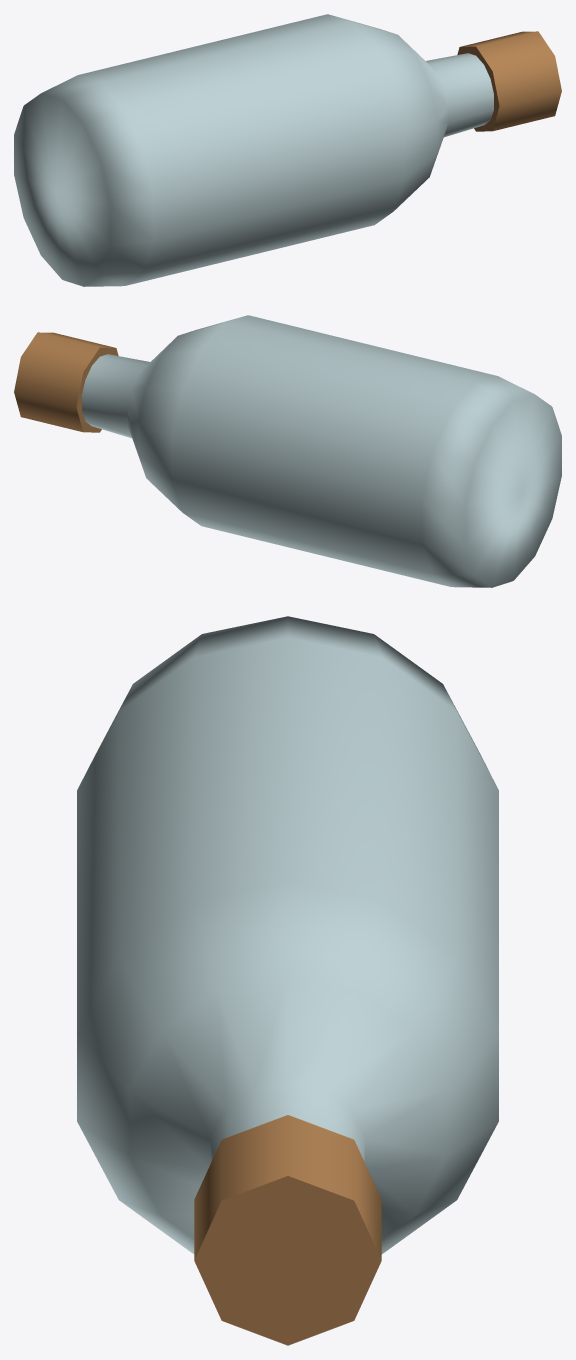
File: item_ic_shipbottle.glb
3 views of the same model, one above another, from view 1: azimuth 30°, elevation 25°; view 2: azimuth 150°, elevation 25°; view 3: azimuth 270°, elevation 25° (orthographic). The views are drawn at different scales.
Visible parts, largest first — view 1: item_ic_shipbottle_clear, item_ic_shipbottle_main; view 2: item_ic_shipbottle_clear, item_ic_shipbottle_main; view 3: item_ic_shipbottle_clear, item_ic_shipbottle_main.
Boxes of the visible parts, bbox=[...] form: item_ic_shipbottle_clear: bbox=[14, 14, 493, 286]; item_ic_shipbottle_main: bbox=[457, 31, 561, 131]; item_ic_shipbottle_clear: bbox=[82, 315, 561, 587]; item_ic_shipbottle_main: bbox=[14, 332, 118, 432]; item_ic_shipbottle_clear: bbox=[77, 616, 498, 1254]; item_ic_shipbottle_main: bbox=[194, 1115, 381, 1345].
Bounding box in the file's own units: 0.31 × 0.12 × 0.117.
